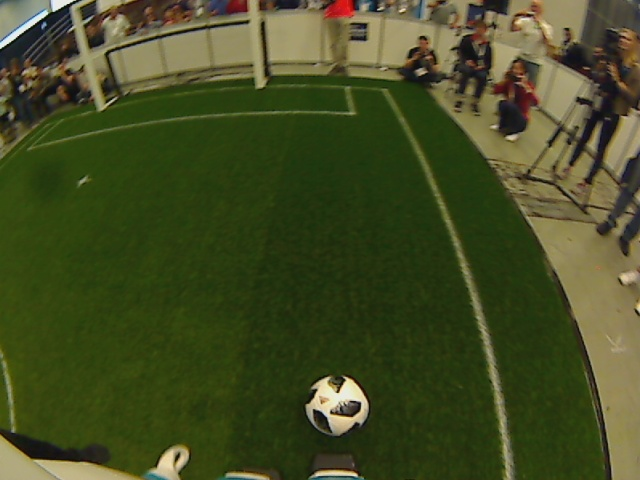ball: (301, 373, 372, 441)
goalpost: (246, 72, 269, 99), (87, 95, 109, 119)
